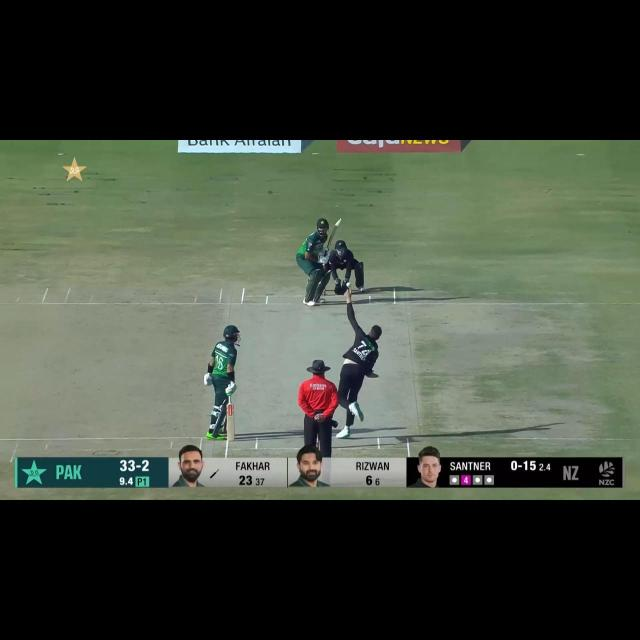bat: (324, 220, 342, 254), (226, 405, 240, 441)
toe: (224, 434, 236, 444), (333, 219, 342, 228)
